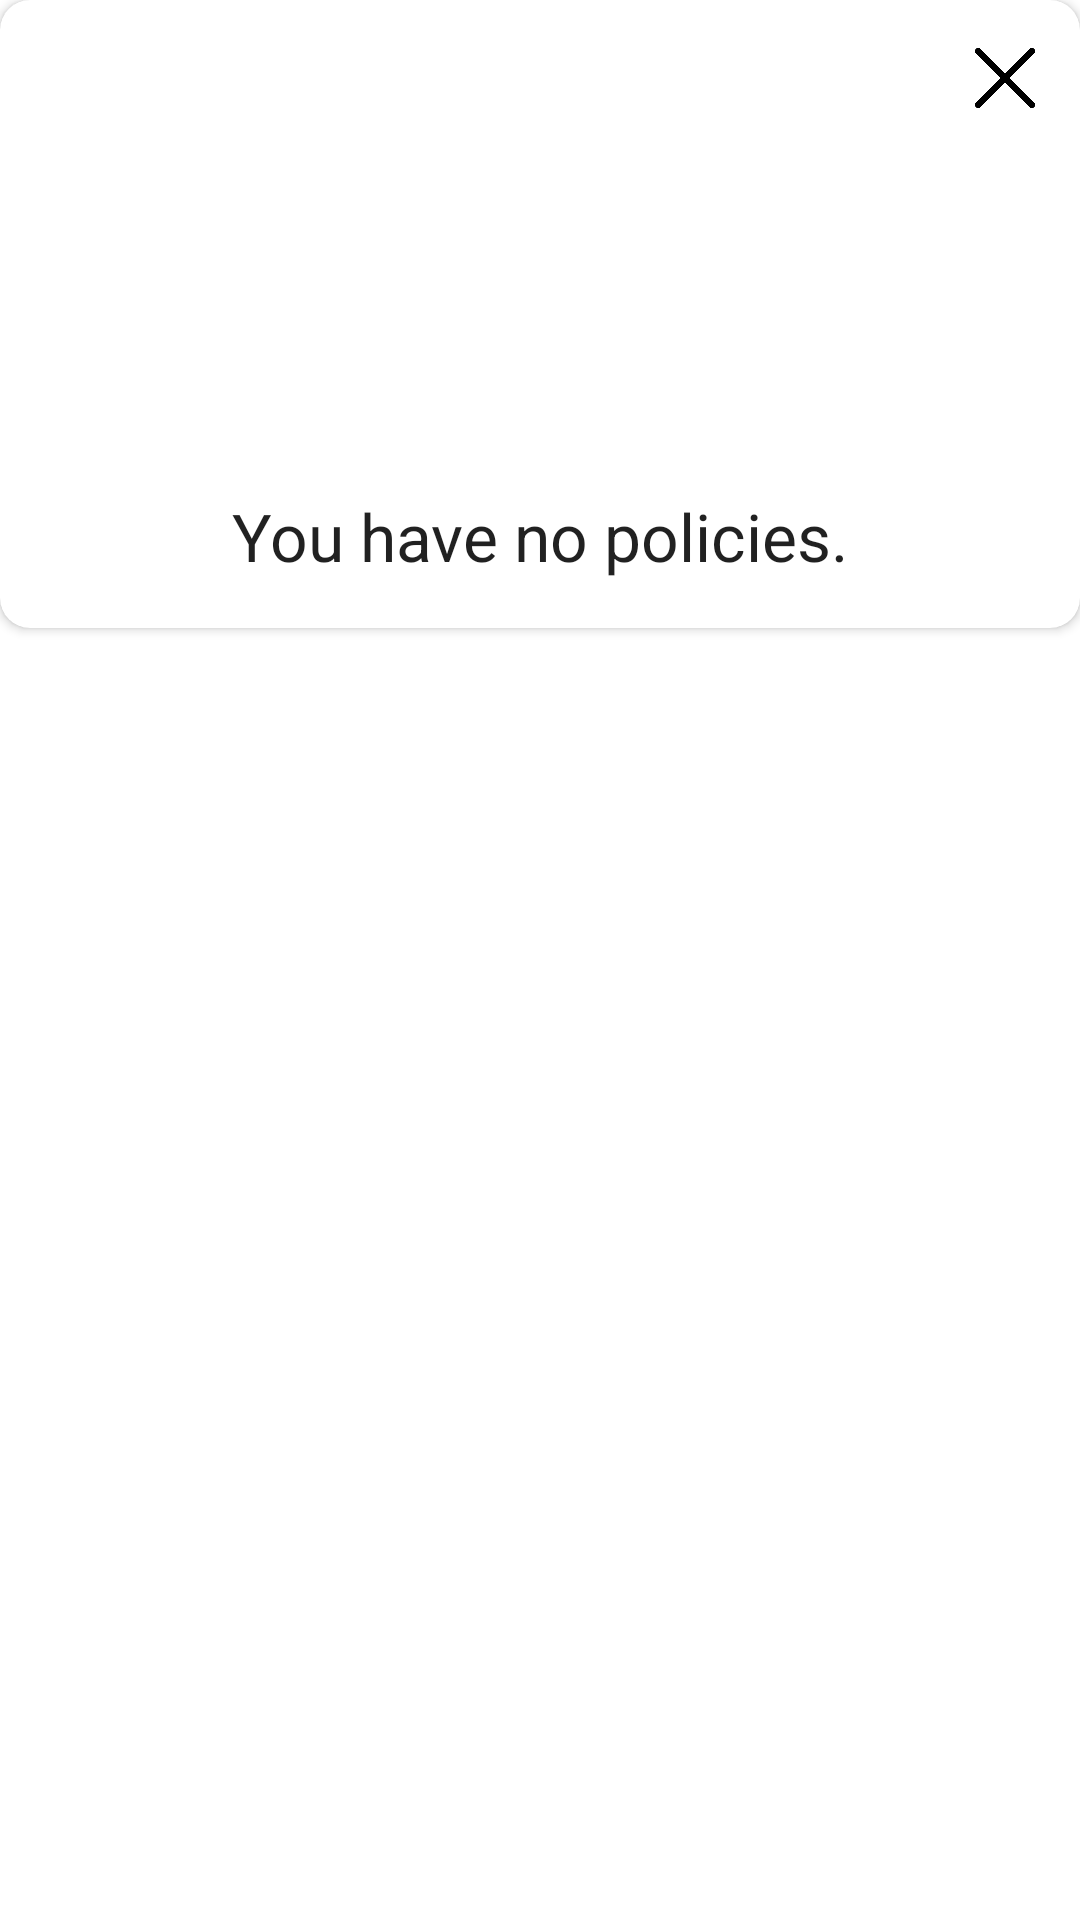

Where to tap for icons on this 1080px×1920px app screen, as [x,y]:
cancel: [1005,78]
